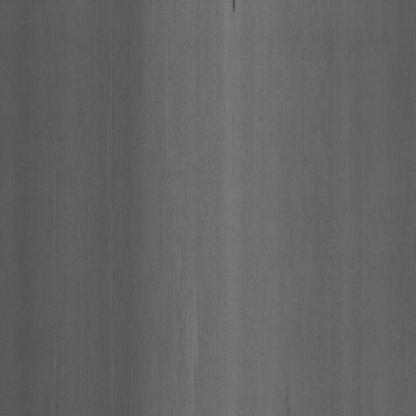inclusion: (224, 0, 242, 17)
